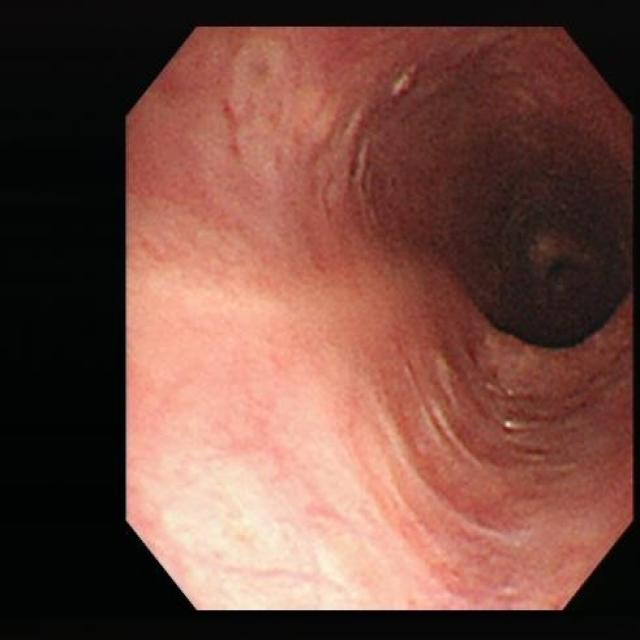E: (473, 148, 632, 350)
